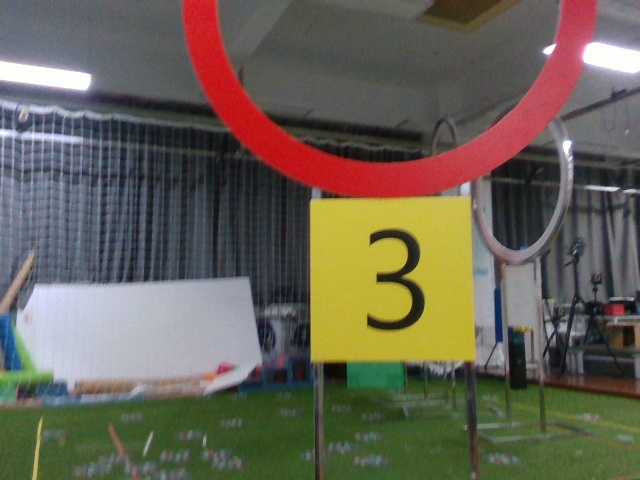target: (314, 201, 474, 361)
